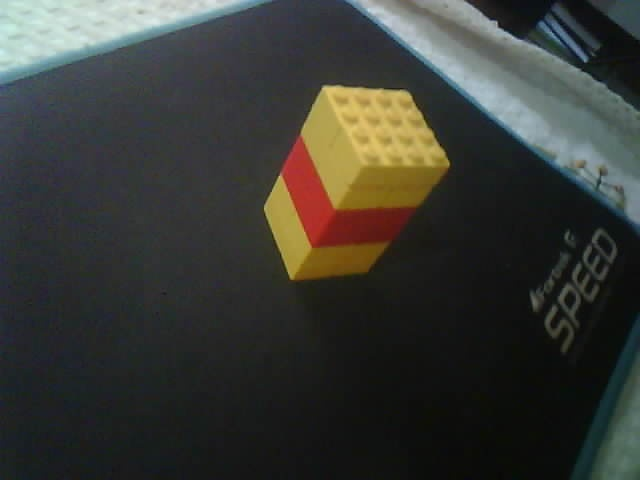lego: (262, 84, 451, 283)
